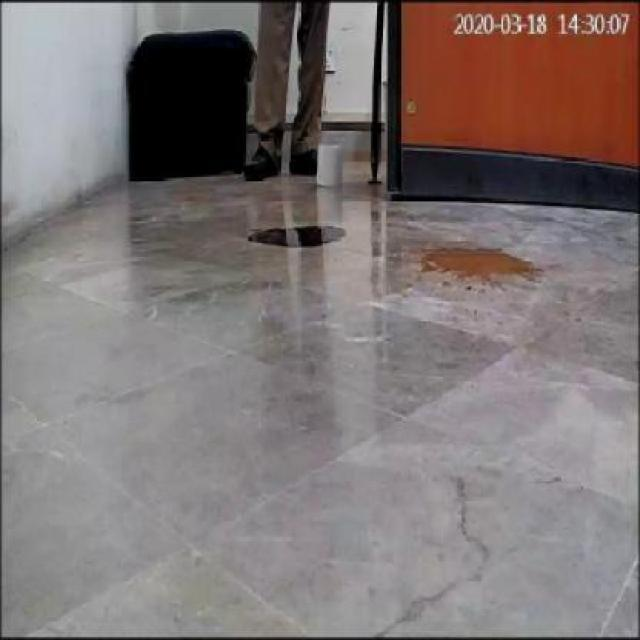spillage: (409, 249, 535, 300), (248, 226, 347, 248)
